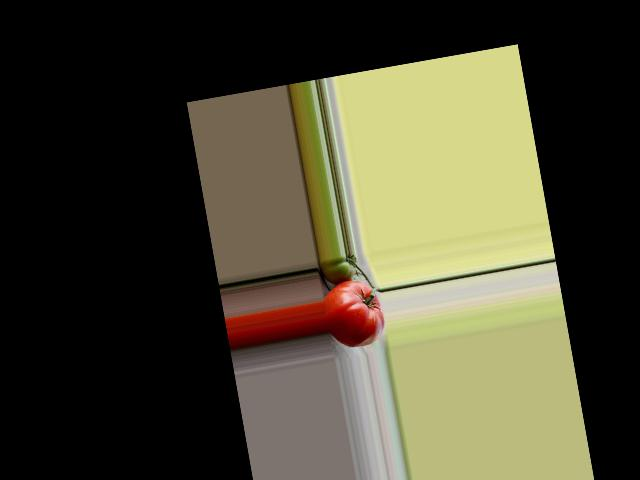tomato: (319, 276, 388, 352)
